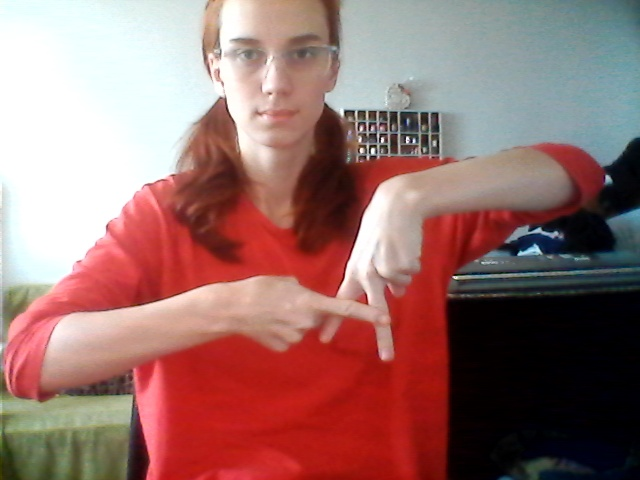a: (273, 253, 431, 376)
